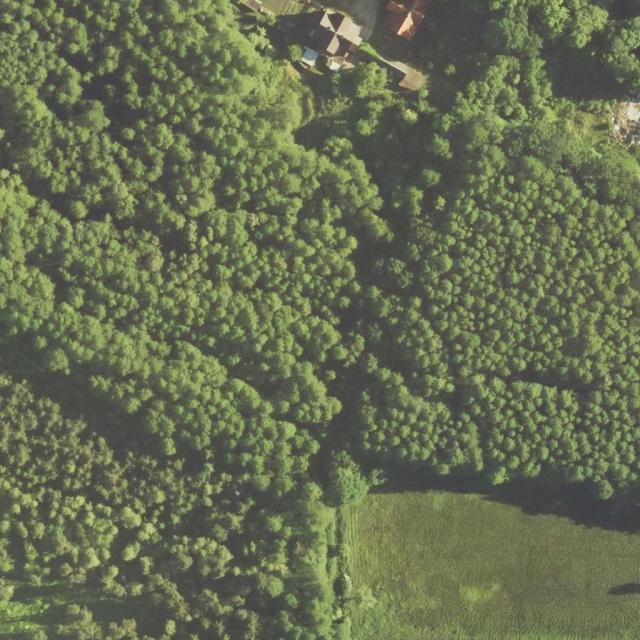building: (299, 6, 368, 80)
